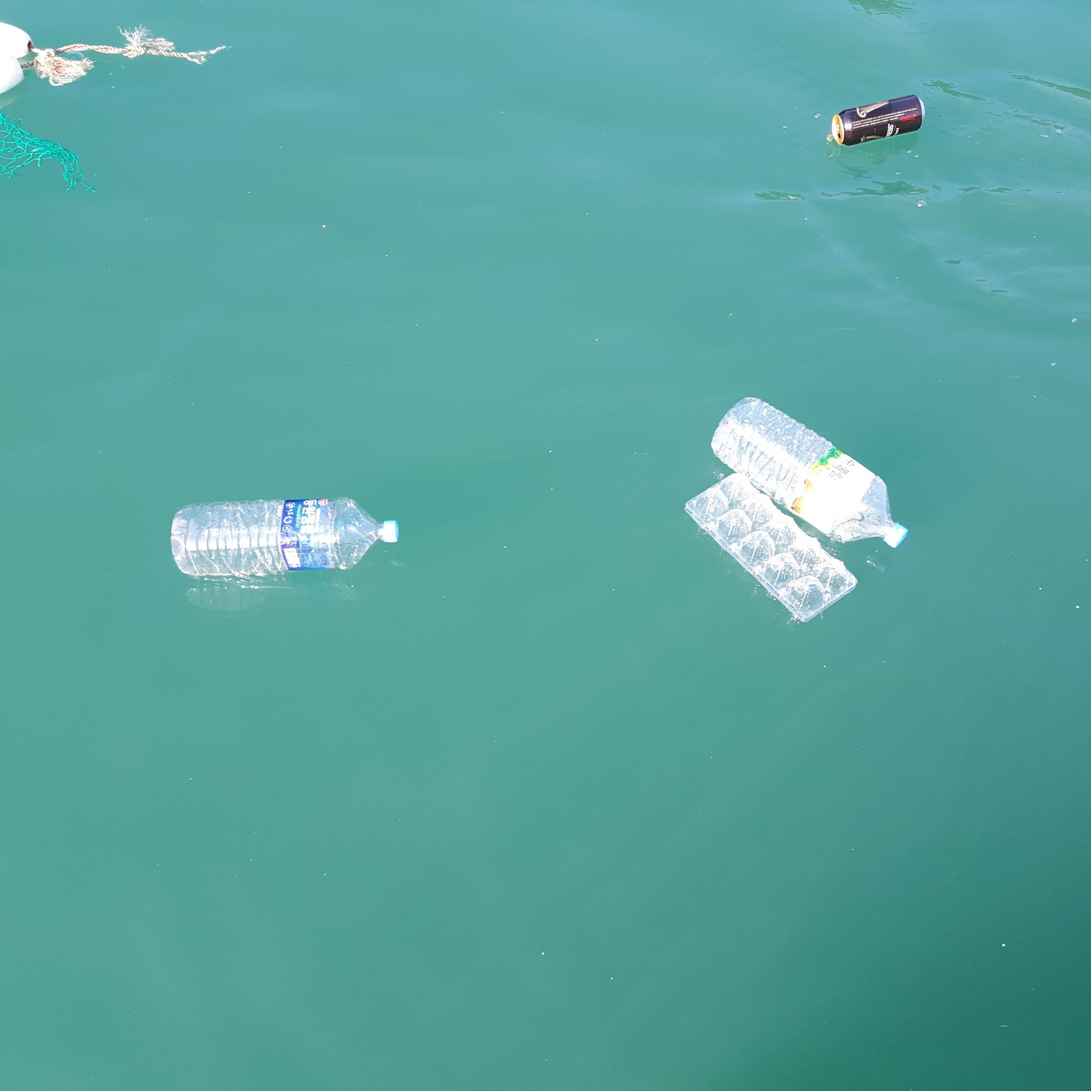sampah_terapung: (712, 397, 909, 549), (171, 497, 399, 577), (21, 24, 226, 87), (1, 112, 96, 193), (832, 95, 925, 147), (1, 23, 34, 59), (1, 58, 25, 94)
